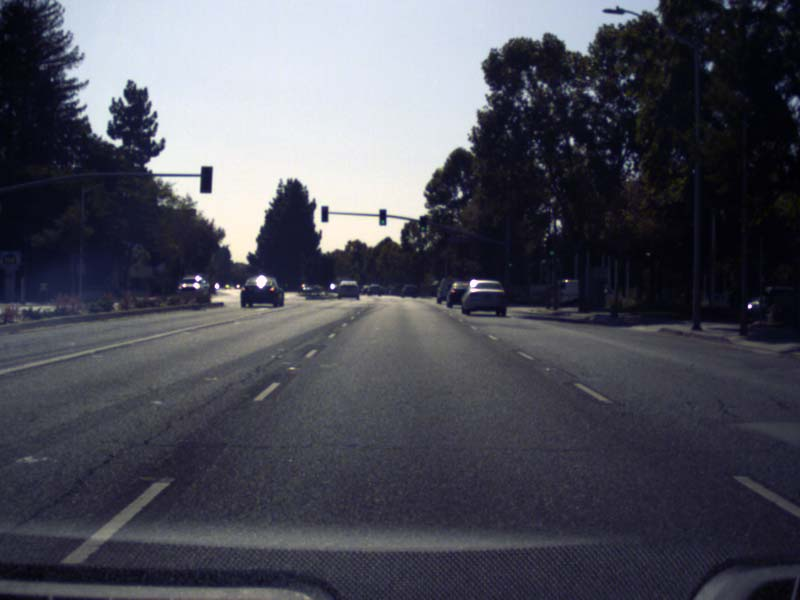Green: (420, 215, 427, 231), (548, 245, 554, 260), (379, 209, 384, 225), (508, 258, 513, 270)
Red: (644, 250, 651, 264)
